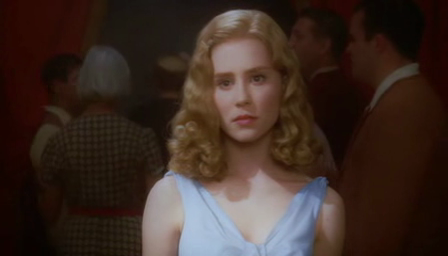face: (211, 55, 276, 141)
mcu: (1, 1, 448, 256)
person: (140, 9, 349, 256)
